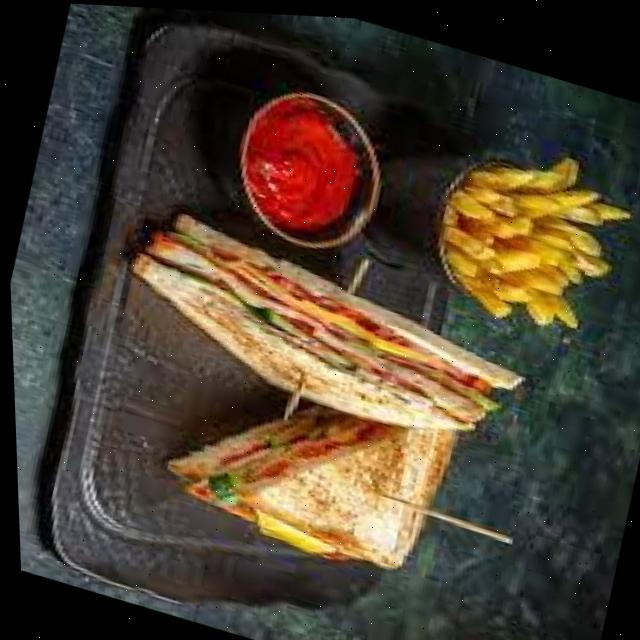Wet: (121, 204, 532, 567)
